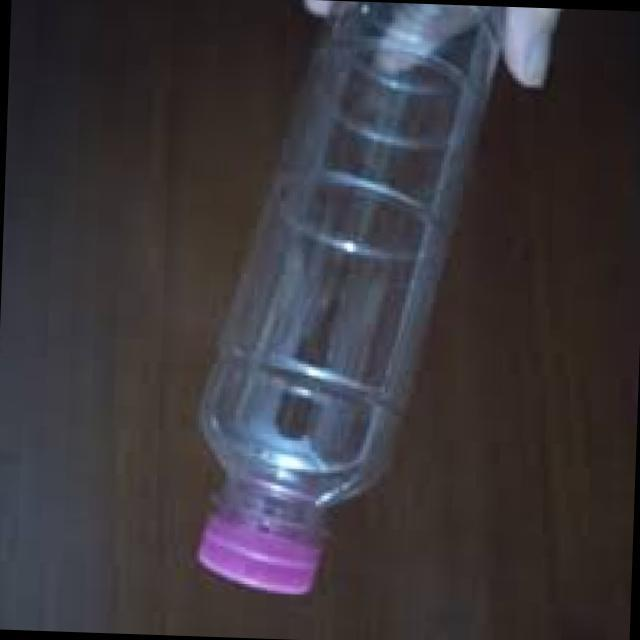good: (195, 11, 495, 600)
